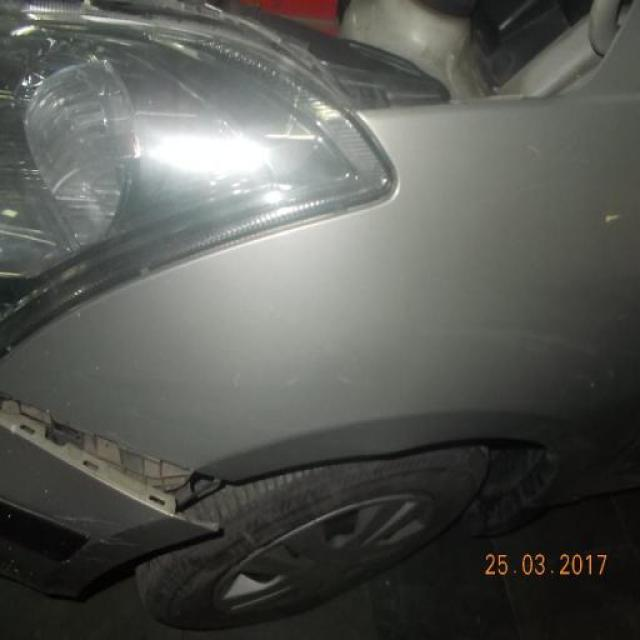tear: (0, 391, 229, 534)
